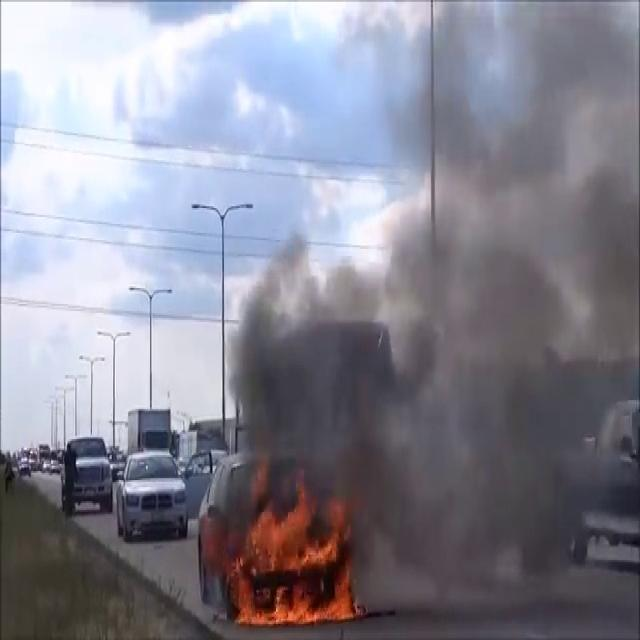Fire: (225, 491, 362, 631)
Smoke: (223, 2, 639, 604)
